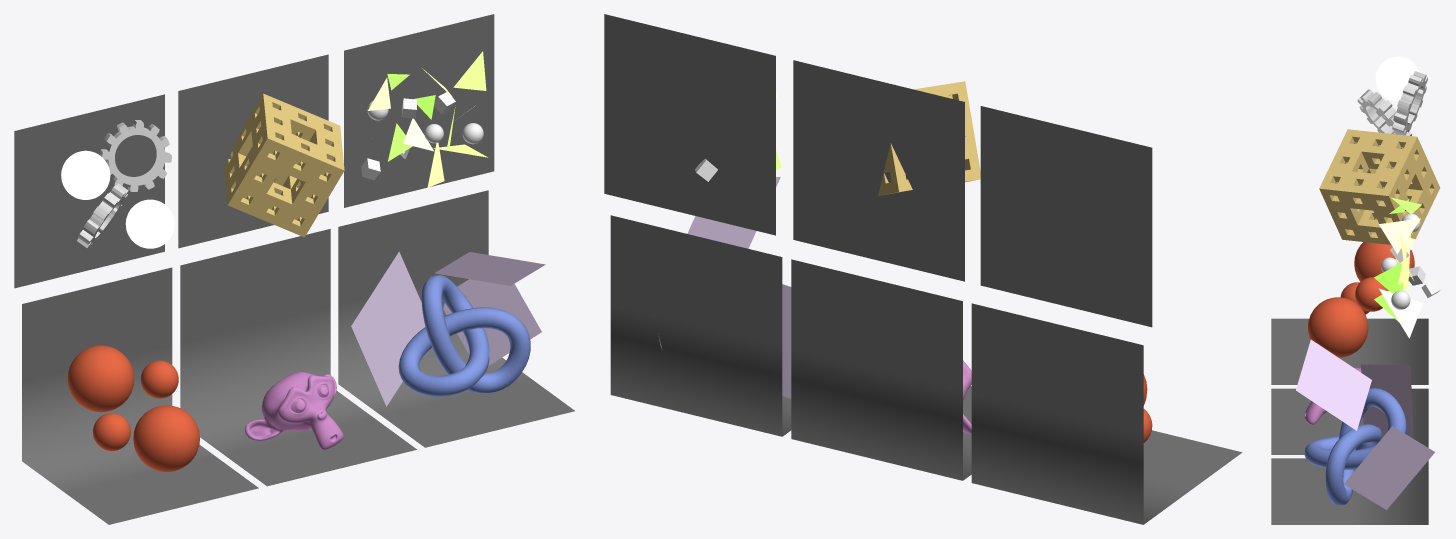
Rendered from demo.gltf.
3 renders of one model, left to right at view 1: azimuth 30°, elevation 25°; view 2: azimuth 150°, elevation 25°; view 3: azimuth 270°, elevation 25°, orthographic. The views are drawn at different scales.
Parts seen in each view (by area): view 1: Plane.001, Plane, Plane.003, Plane.005, Plane.002, Plane.004, Sponge.001, TorusKnot, Plane.006, Suzanne, Sphere, Sphere.001 (+9 smaller); view 2: Plane, Plane.001, Plane.003, Plane.002, Plane.005, Plane.004, Sponge.001, Plane.008, Plane.006; view 3: Sponge.001, Plane.003, Plane, TorusKnot, Plane.001, Plane.007, Plane.008, Vert, Sphere.001, Plane.006, Gear.001, Sphere.004 (+8 smaller).
Boxes of the visible parts, <box> form: Plane.001: <box>180,229,416,486</box>; Plane: <box>22,267,258,524</box>; Plane.003: <box>338,190,574,447</box>; Plane.005: <box>344,14,494,207</box>; Plane.002: <box>14,94,164,288</box>; Plane.004: <box>178,54,328,248</box>; Sponge.001: <box>224,93,344,237</box>; TorusKnot: <box>398,275,530,396</box>; Plane.006: <box>351,251,425,406</box>; Suzanne: <box>244,372,343,449</box>; Sphere: <box>67,345,134,412</box>; Sphere.001: <box>133,405,199,471</box>; Plane: <box>971,303,1242,524</box>; Plane.001: <box>791,259,971,480</box>; Plane.003: <box>610,215,791,436</box>; Plane.002: <box>980,106,1152,327</box>; Plane.005: <box>604,14,775,235</box>; Plane.004: <box>793,60,964,281</box>; Sponge.001: <box>878,81,980,196</box>; Plane.008: <box>687,177,780,248</box>; Plane.006: <box>782,284,791,398</box>; Sponge.001: <box>1319,129,1440,244</box>; Plane.003: <box>1271,458,1428,524</box>; Plane: <box>1271,318,1428,384</box>; TorusKnot: <box>1304,388,1406,505</box>; Plane.001: <box>1271,388,1428,454</box>; Plane.007: <box>1344,426,1434,509</box>; Plane.008: <box>1296,339,1371,430</box>; Vert: <box>1374,197,1422,338</box>; Sphere.001: <box>1308,297,1368,357</box>; Plane.006: <box>1361,364,1413,438</box>; Gear.001: <box>1392,71,1427,135</box>; Sphere.004: <box>1375,56,1418,101</box>.
Bounding box in the file's own units: 12.79 × 8.45 × 4.33.
